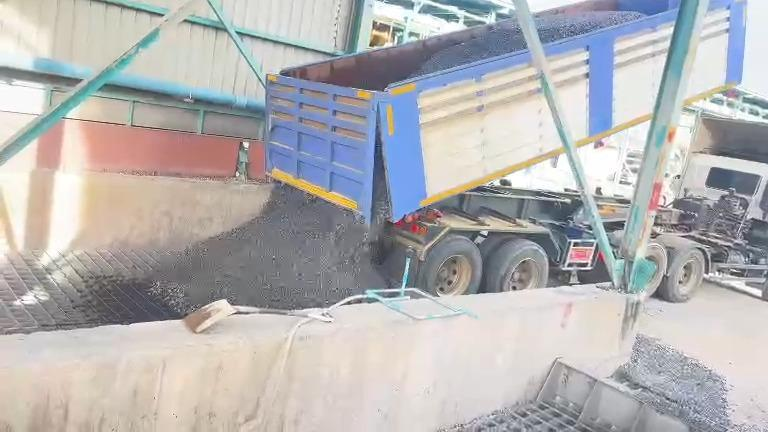gravel: (152, 184, 385, 313), (615, 334, 733, 430), (411, 18, 526, 77), (535, 11, 645, 43), (371, 138, 390, 233)
